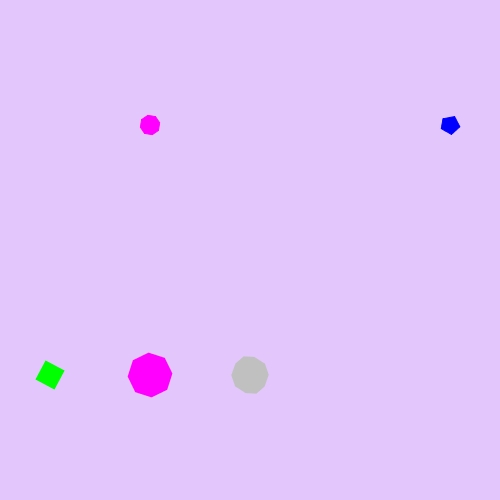decagon: (227, 354, 274, 397)
octagon: (124, 349, 176, 401), (135, 110, 165, 140)
pentagon: (436, 111, 464, 139)
quadrilateral: (31, 356, 69, 394)
